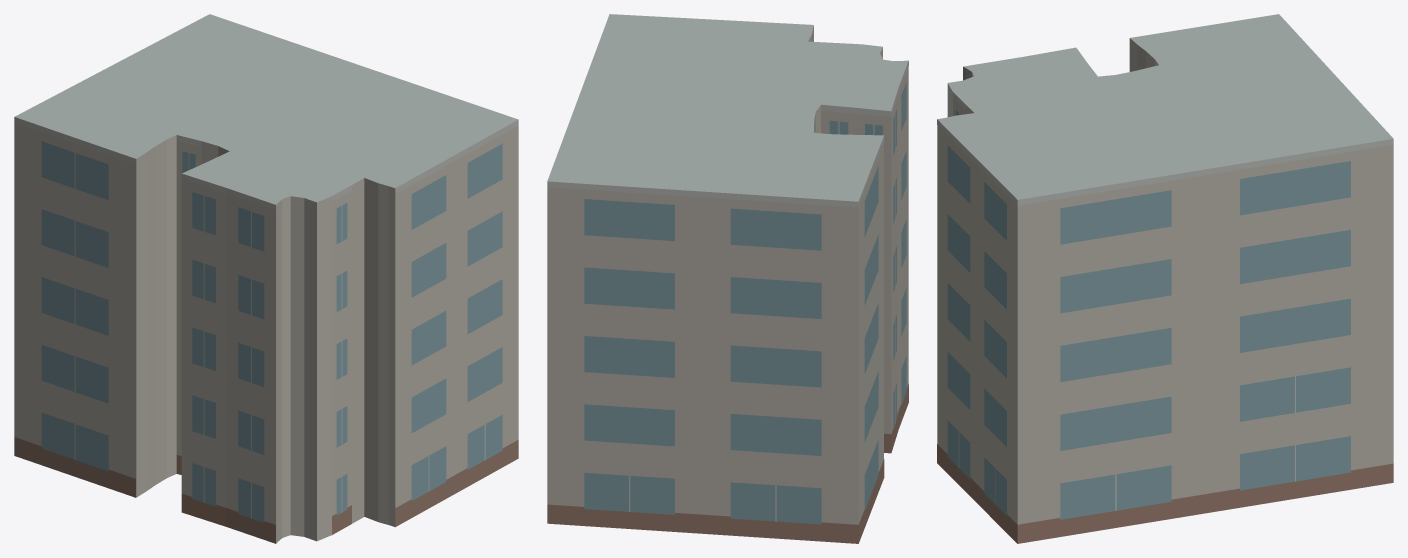
Rendered from survey-upis-33008000.glb.
3 renders of one model, left to right at view 1: azimuth 30°, elevation 25°; view 2: azimuth 150°, elevation 25°; view 3: azimuth 270°, elevation 25°, orthographic.
Visible parts, largest first — view 1: survey-upis-33008000.tmp; view 2: survey-upis-33008000.tmp; view 3: survey-upis-33008000.tmp.
Part boxes in pixels (<box>): survey-upis-33008000.tmp: <box>14,14,518,543</box>; survey-upis-33008000.tmp: <box>547,14,908,543</box>; survey-upis-33008000.tmp: <box>937,14,1393,543</box>.
Size of the model in its own units: 16.59 by 14.3 by 17.21.
